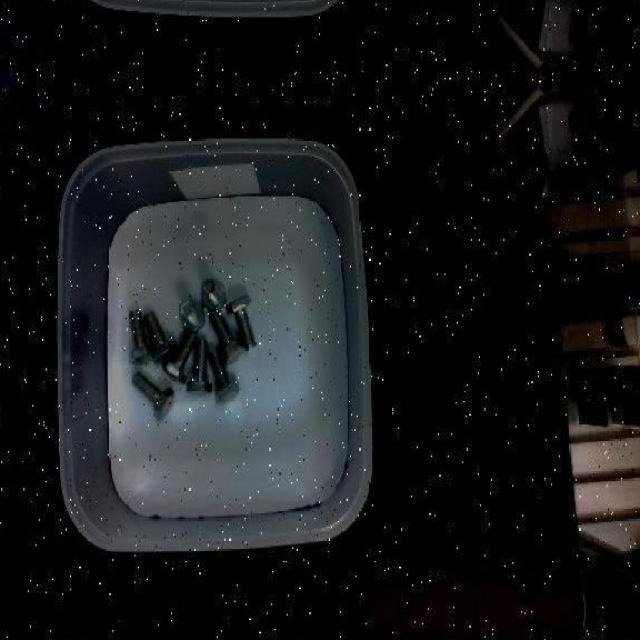screw: (132, 371, 174, 418), (211, 309, 247, 362), (143, 311, 178, 365), (162, 329, 198, 380), (208, 348, 240, 403), (226, 292, 256, 348), (186, 339, 212, 395), (130, 309, 154, 365), (202, 276, 226, 310), (180, 300, 203, 331)
